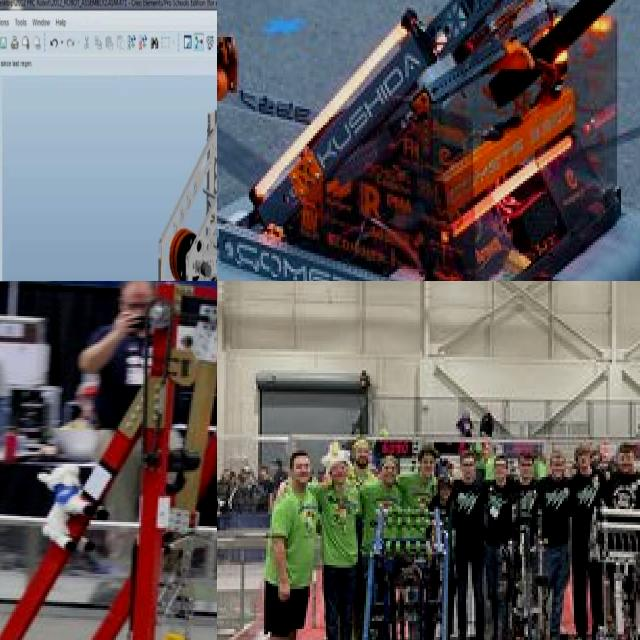FRC-Robots: (217, 0, 640, 281), (0, 281, 217, 640), (78, 0, 217, 281), (340, 456, 464, 640), (468, 471, 573, 640), (580, 496, 640, 640)
